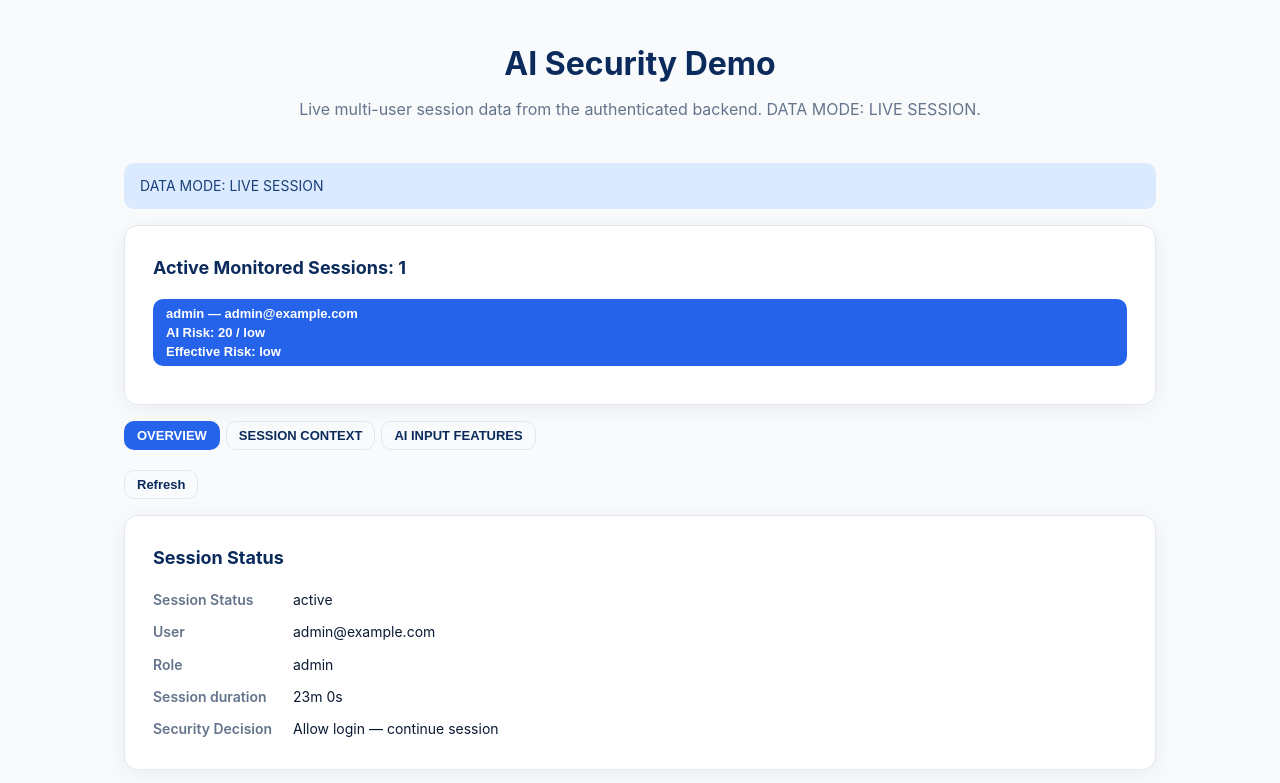
Test case: AIDemoPage — single active session › shows real contextChanges with Unchanged flags
Check: the text "admin@example.com" is shown, box [293, 623, 435, 640]
Click the tab with test id "tab-session-context" at (301, 436), box [226, 421, 375, 450]
(page scrolled)
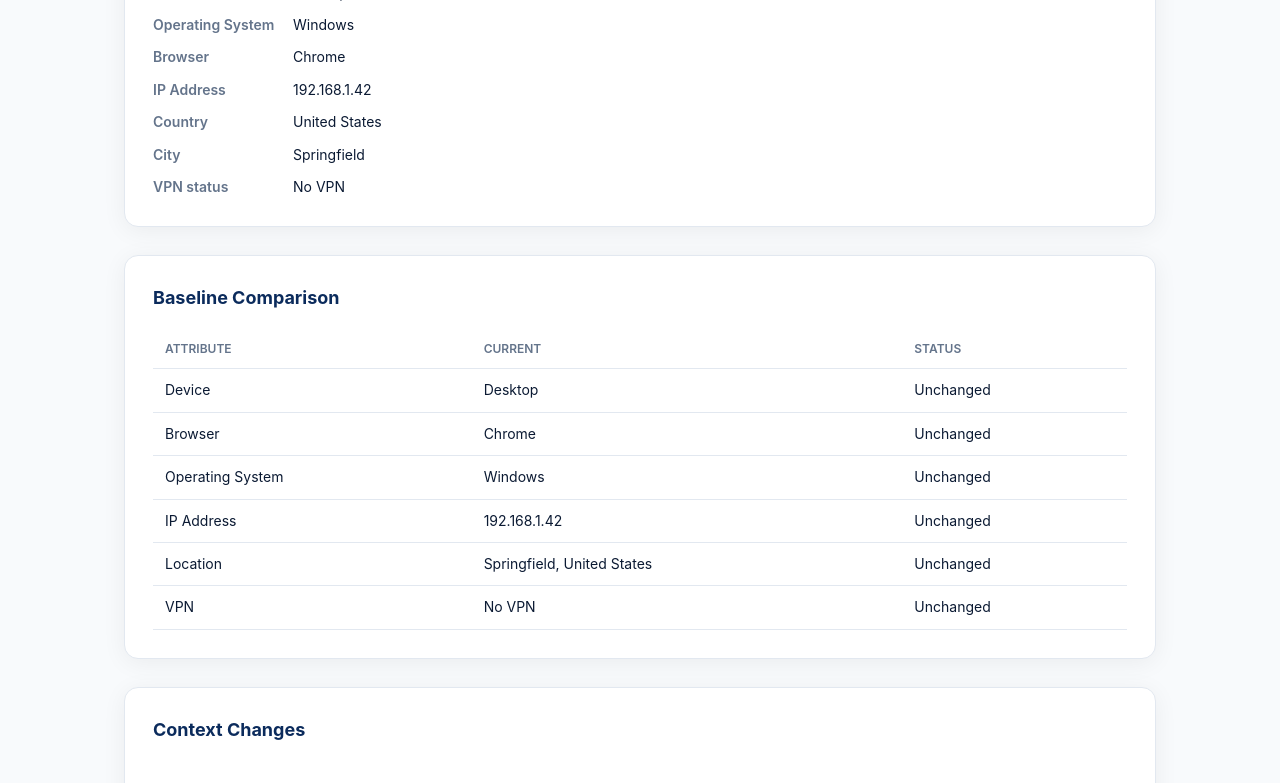
Check: the 1st text "Unchanged" is shown, box [902, 369, 1127, 412]
